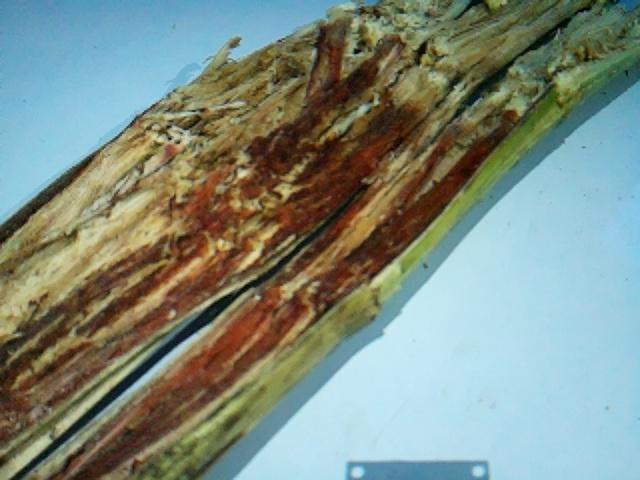Red-Rot: (0, 14, 533, 480)
